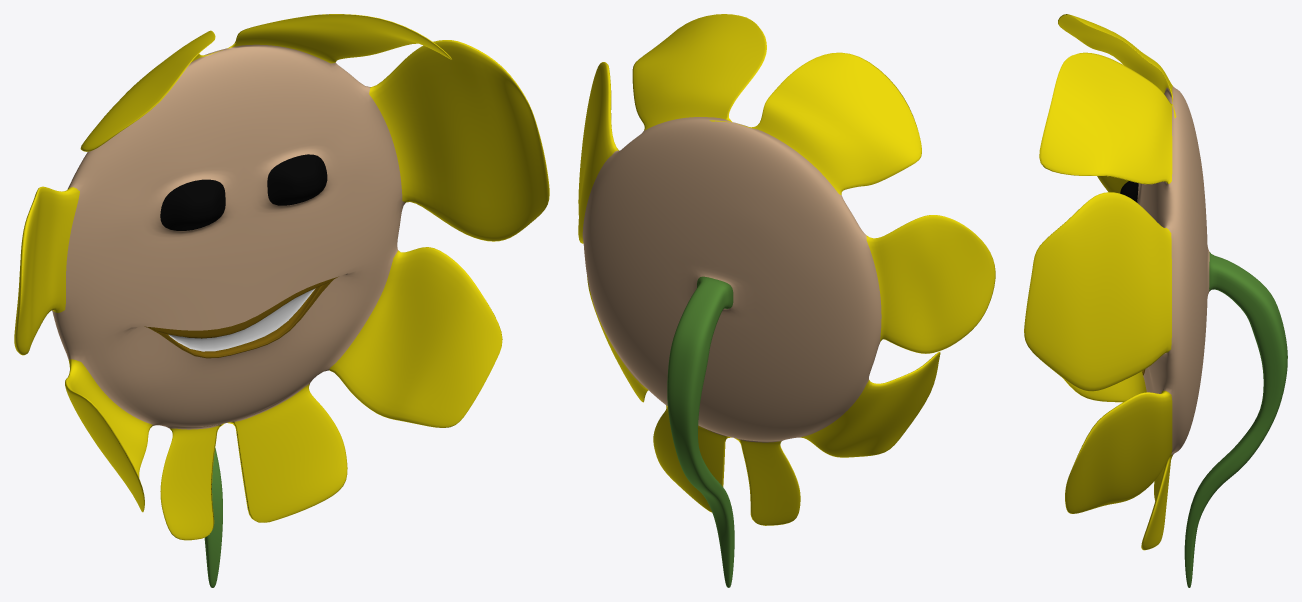
File: bunga 1.fbx
3 views of the same model, side by side, from view 1: azimuth 30°, elevation 25°; view 2: azimuth 150°, elevation 25°; view 3: azimuth 270°, elevation 25° (orthographic). The views are drawn at different scales.
Parts seen in each view (by area): view 1: pSphere3; view 2: pSphere3; view 3: pSphere3.
Part boxes in pixels (<box>): pSphere3: <box>14,14,549,587</box>; pSphere3: <box>578,14,995,587</box>; pSphere3: <box>1024,14,1287,587</box>.
Size of the model in its own units: 3.29 by 3.84 by 1.68.
